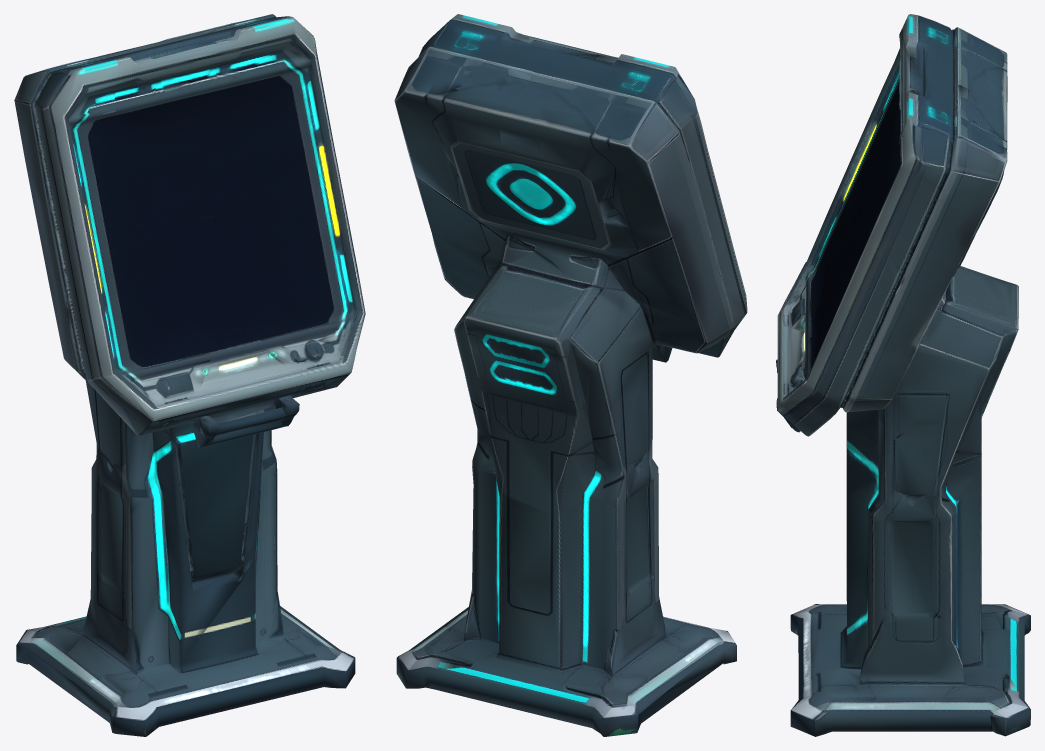
3 views of the same model, side by side, from view 1: azimuth 30°, elevation 25°; view 2: azimuth 150°, elevation 25°; view 3: azimuth 270°, elevation 25° (orthographic). The views are drawn at different scales.
Bounding box in the file's own units: 0.8726 × 1.9 × 0.7144.
1 material, 1 textured.
